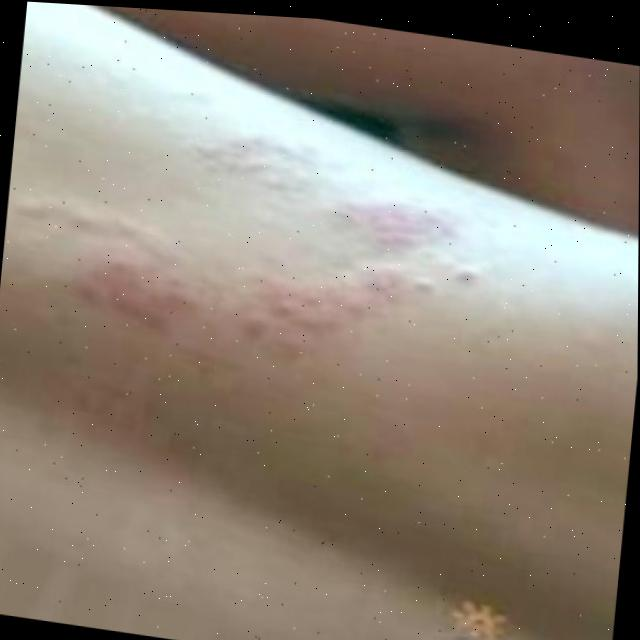Shingles: (9, 178, 467, 378), (178, 111, 455, 259)
